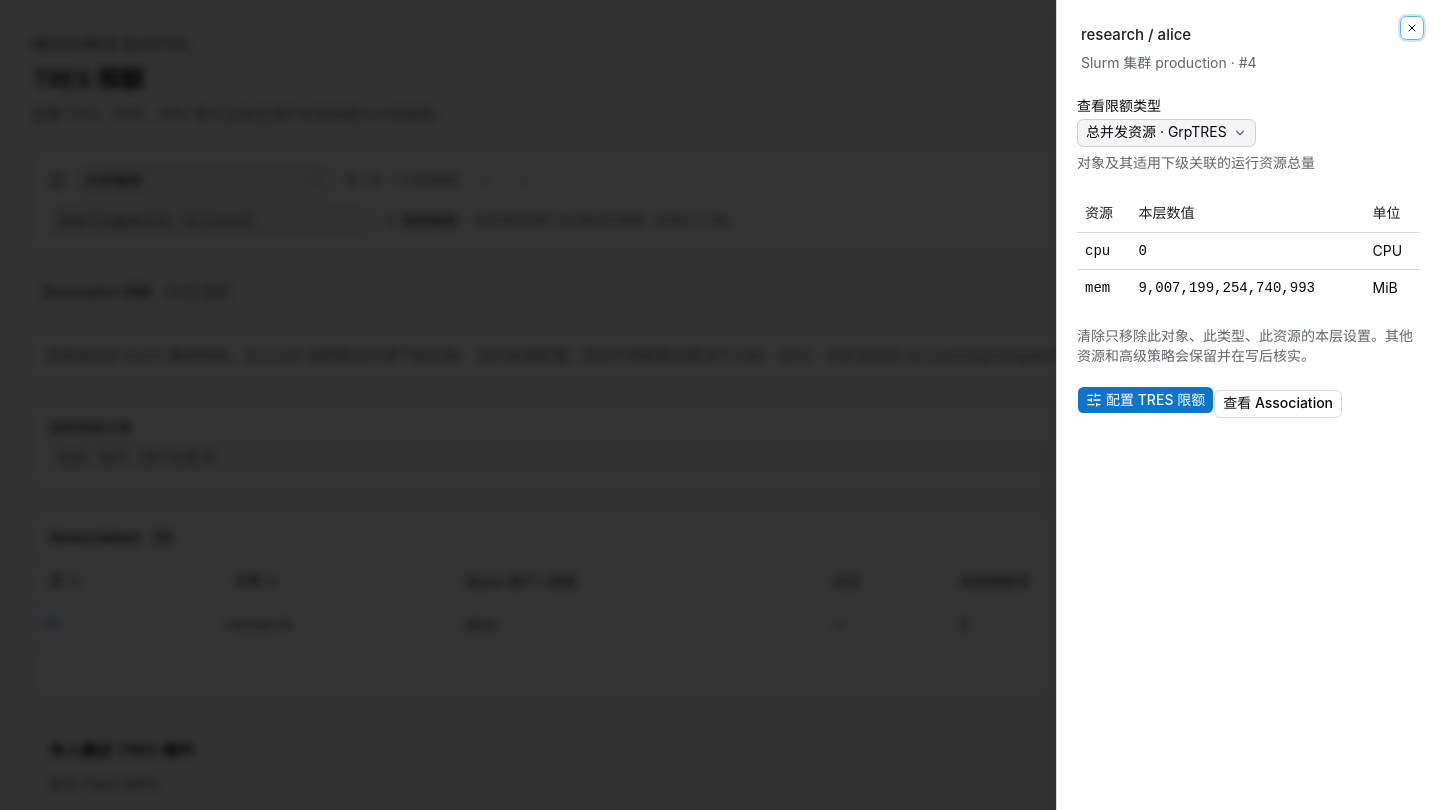
Test: 清除动作显式提交 clear，切换资源使旧确认失效
What coordinates should you click on to do the following:
click the button "配置 TRES 限额"
I would click on:
 (1146, 400)
Its box is [1077, 386, 1214, 414].
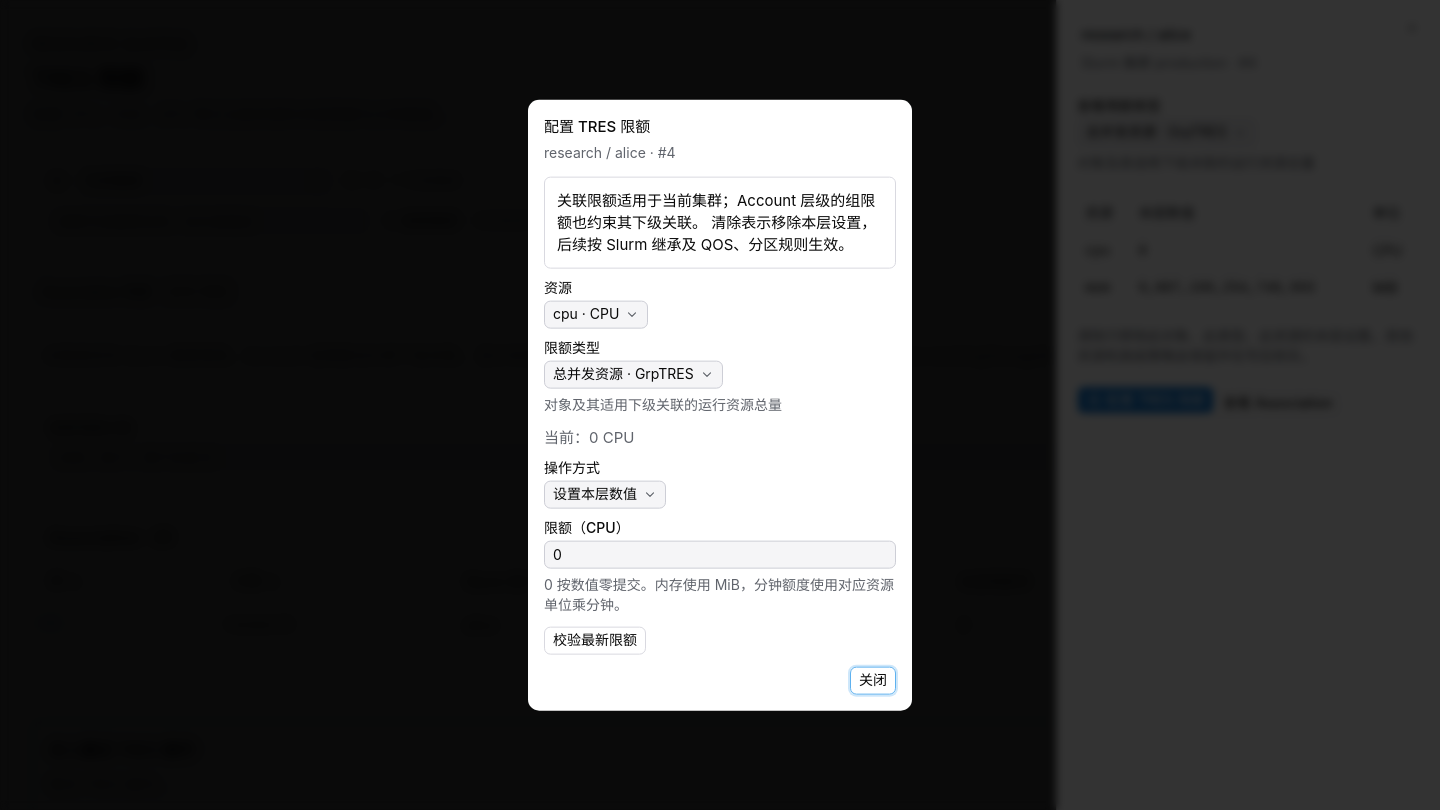
What coordinates should you click on to do the following:
click the dropdown named "操作方式"
I would click on:
 (605, 494)
Its box is [544, 480, 666, 508].
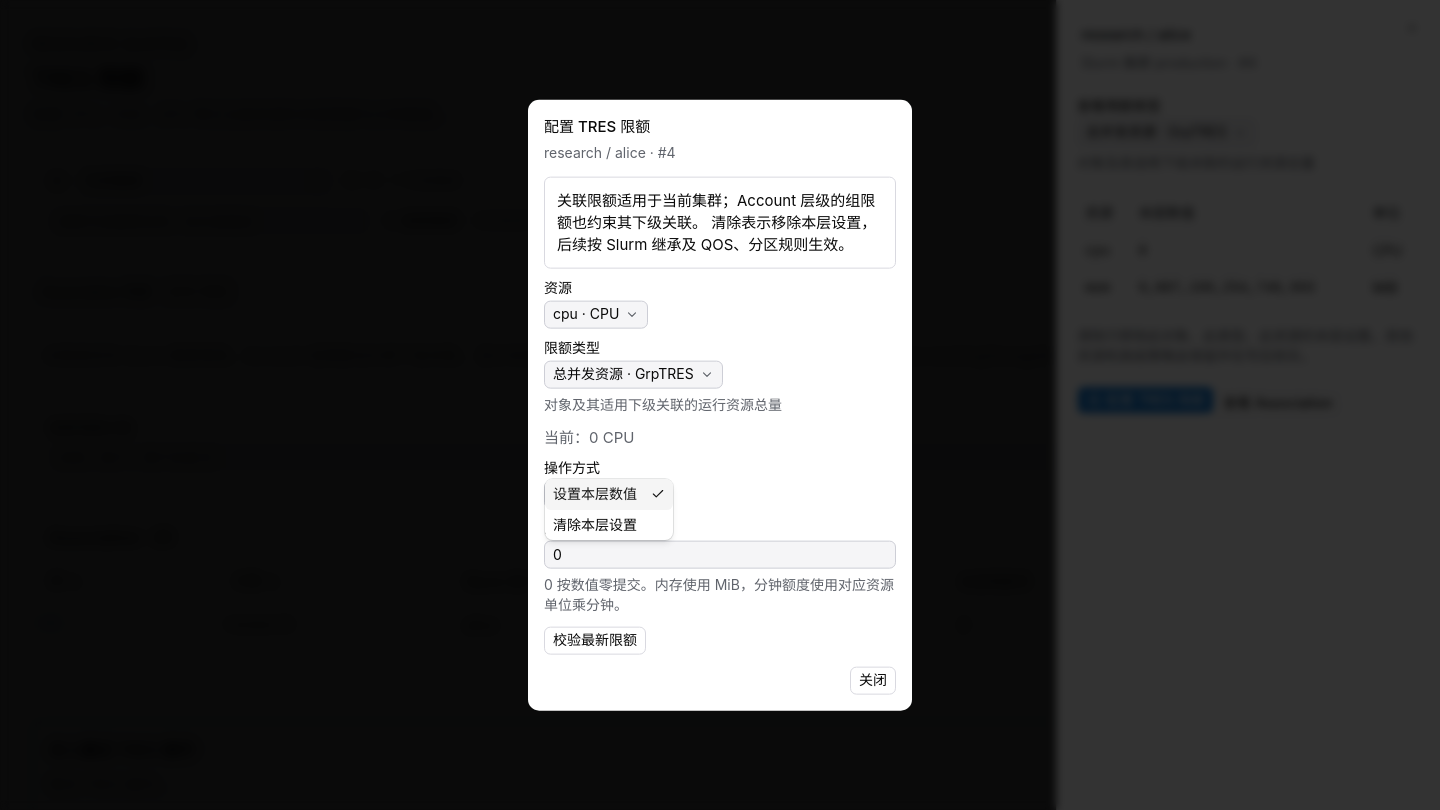
What coordinates should you click on to do the following:
click the option "清除本层设置"
I would click on:
 (595, 524)
Its box is [553, 516, 637, 533].
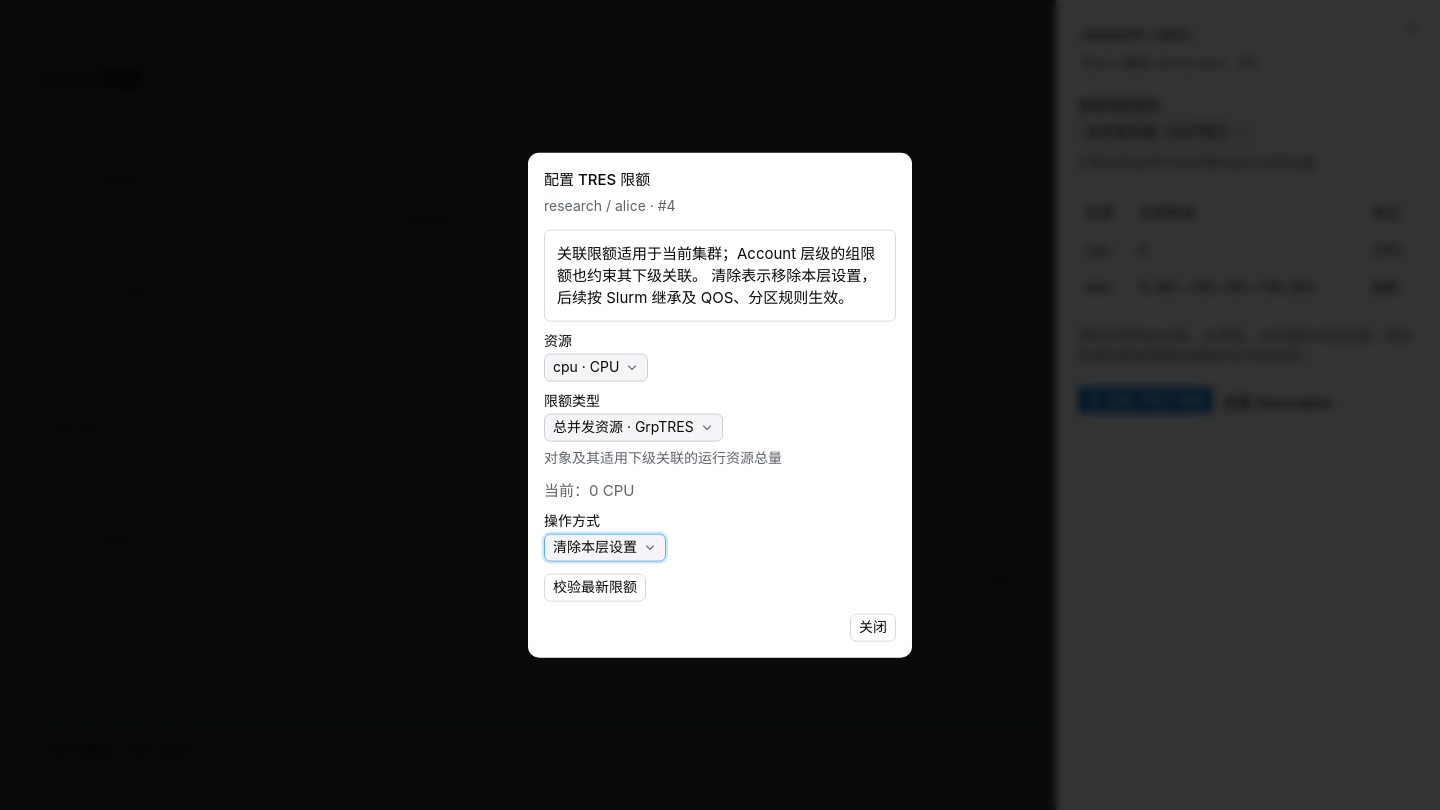
What coordinates should you click on to do the following:
click the button "校验最新限额"
I would click on:
 (595, 587)
Its box is [544, 573, 646, 601].
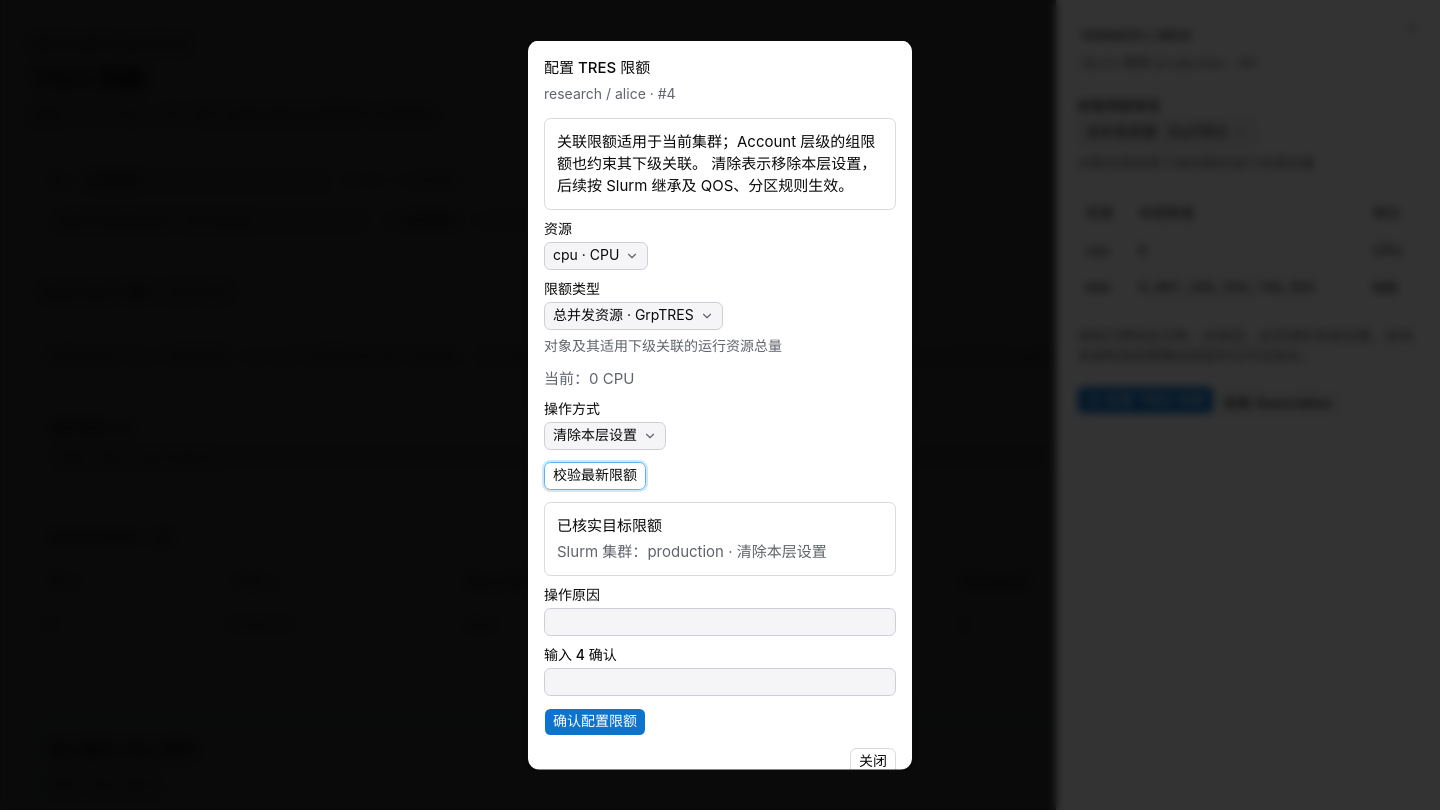
Check: the button "确认配置限额" is shown, box [544, 707, 646, 735]
What coordinates should you click on to do the following:
click the dropdown named "资源"
I would click on:
 (596, 255)
Its box is [544, 241, 648, 269].
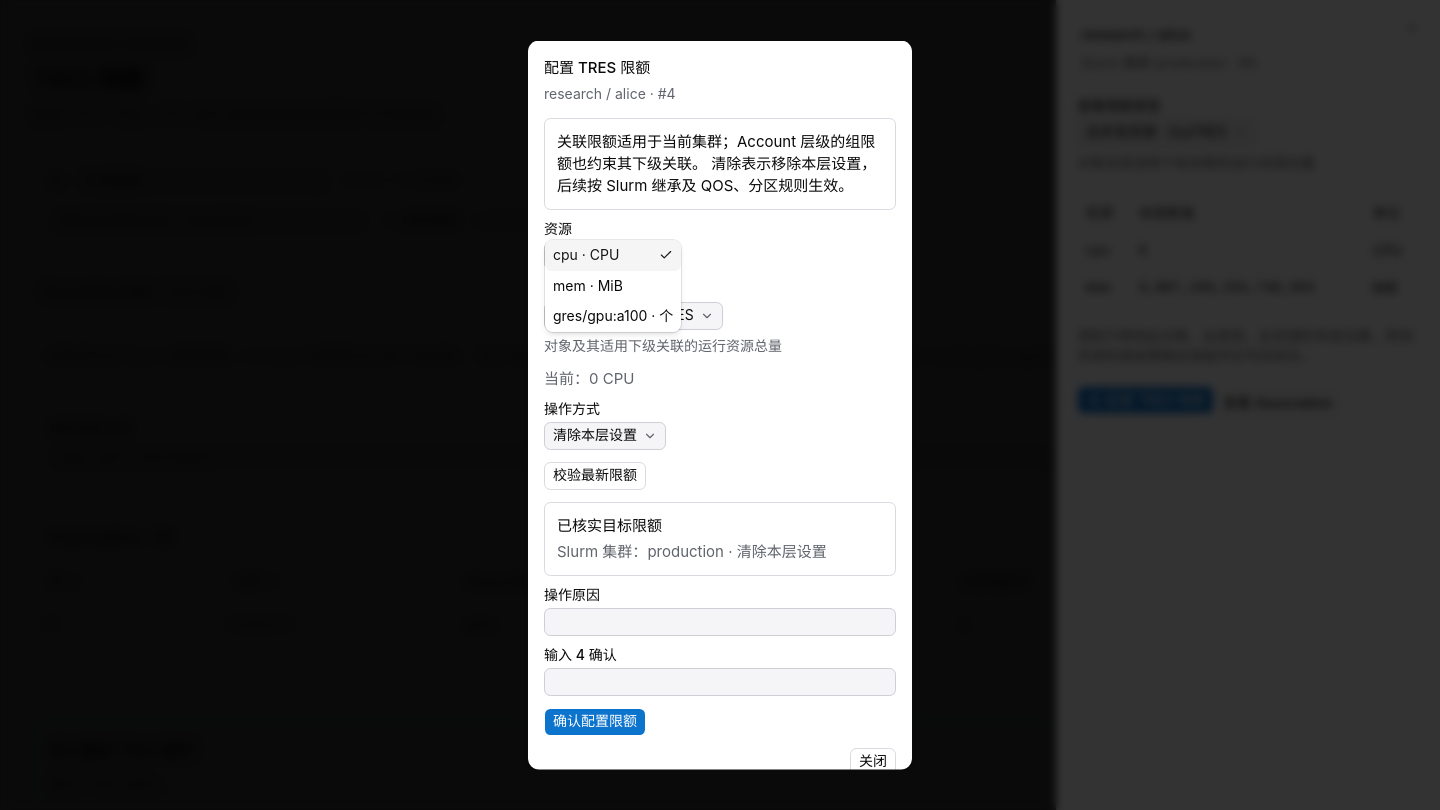
What coordinates should you click on to do the following:
click the option "mem · MiB"
I would click on:
 (588, 285)
Its box is [553, 276, 623, 294].
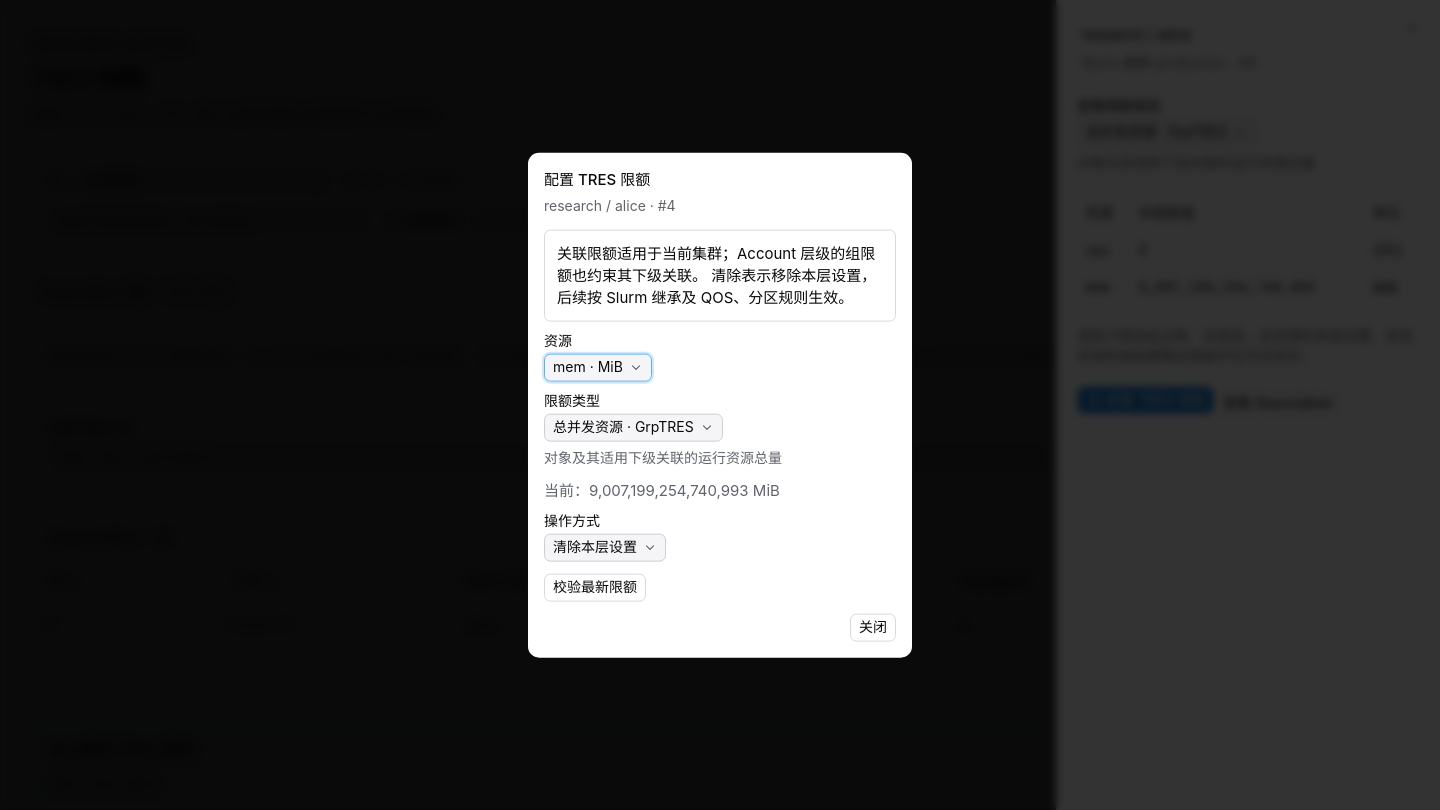
Check: the button "确认配置限额" is gone
